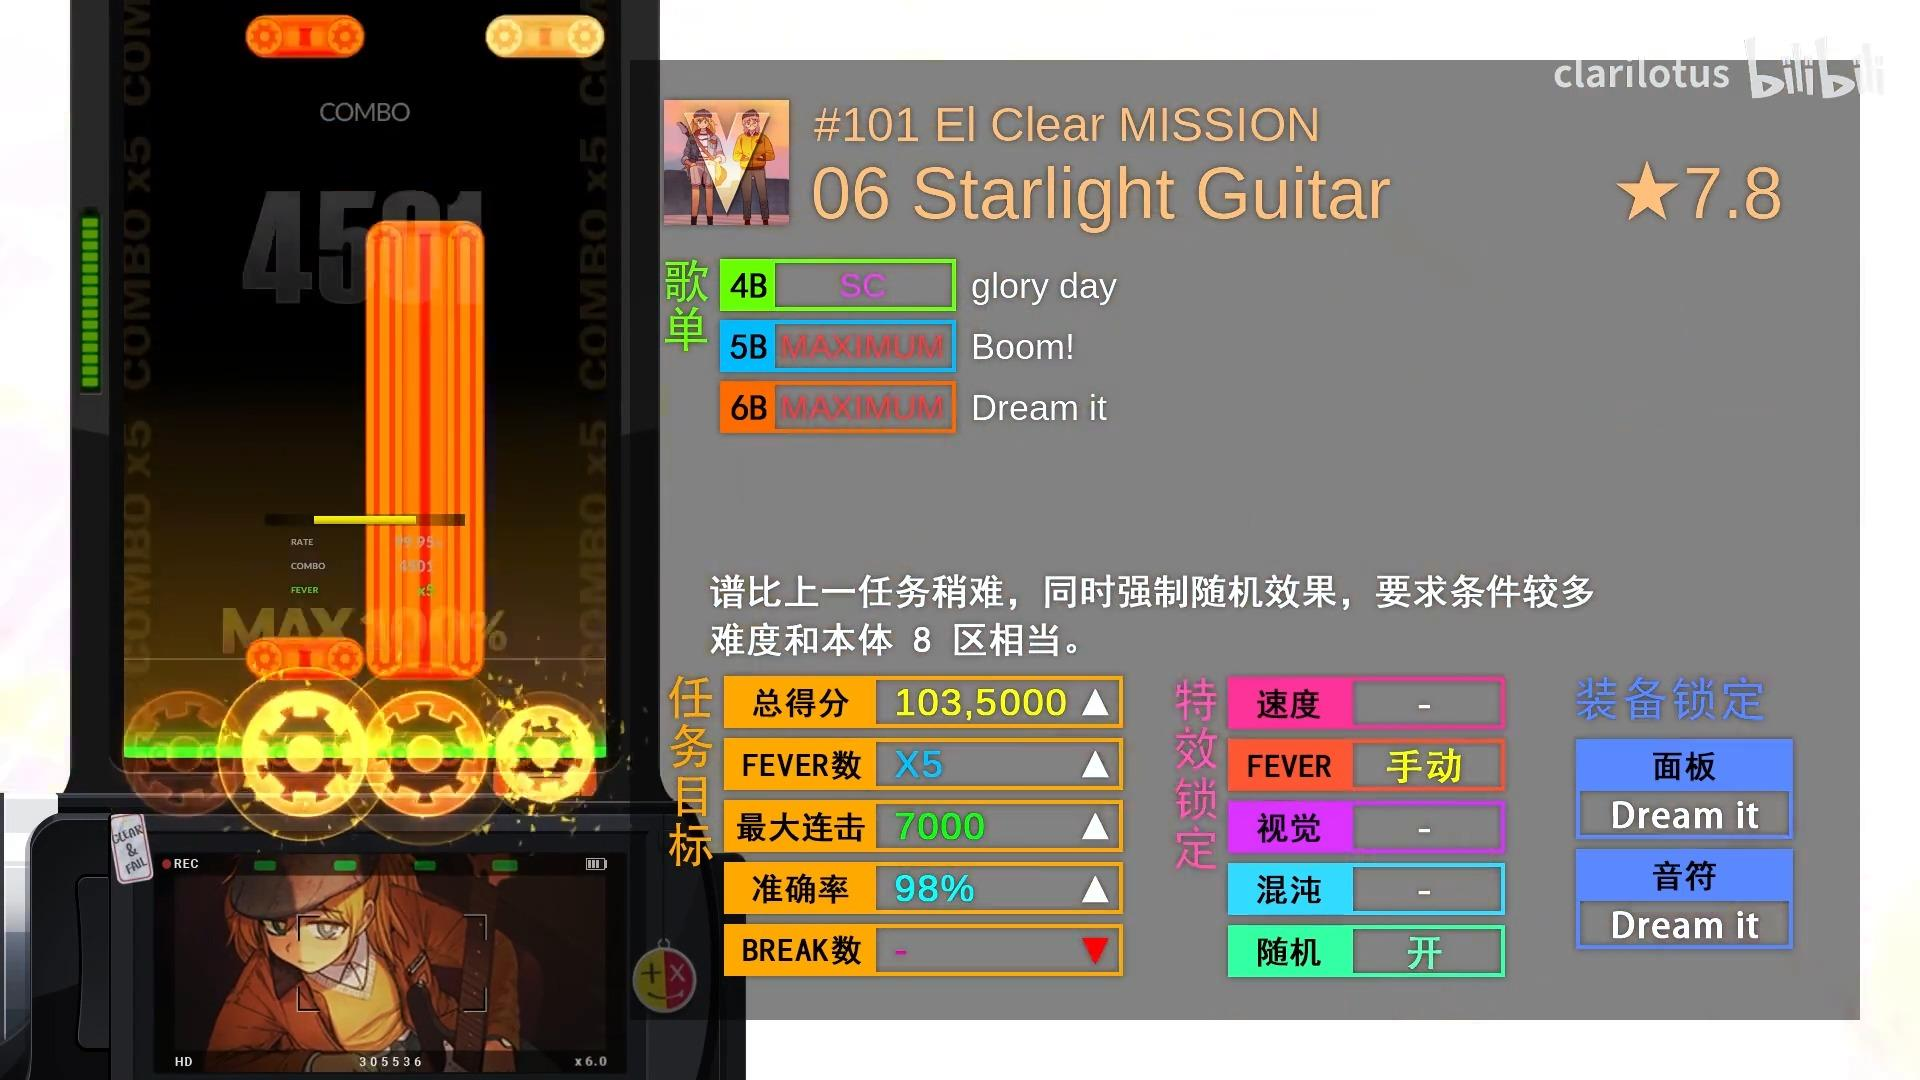hold-end: (367, 222, 485, 247)
hold-start: (364, 645, 488, 679)
note: (247, 637, 365, 680), (247, 16, 364, 59), (487, 16, 604, 58)
